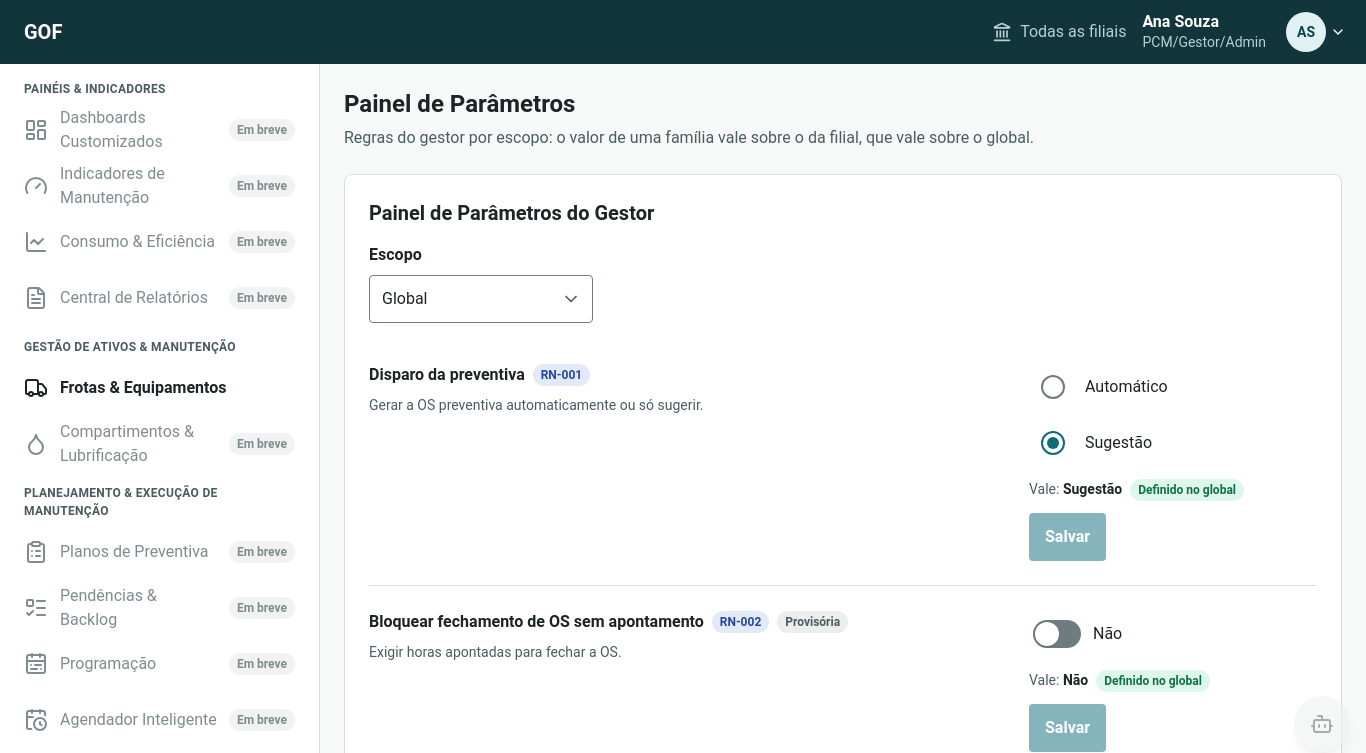
Test: Painel de Parâmetros (F1-28) › escopo Filial: chave sem escopo de filial fica indisponível; origem herdada ou definida aqui
Check: the heading "Painel de Parâmetros do Gestor" is shown, box [369,201,654,225]
Select "Filial" in the dropdown labelled "Escopo". click: (481, 299)
box: [369,275,593,323]
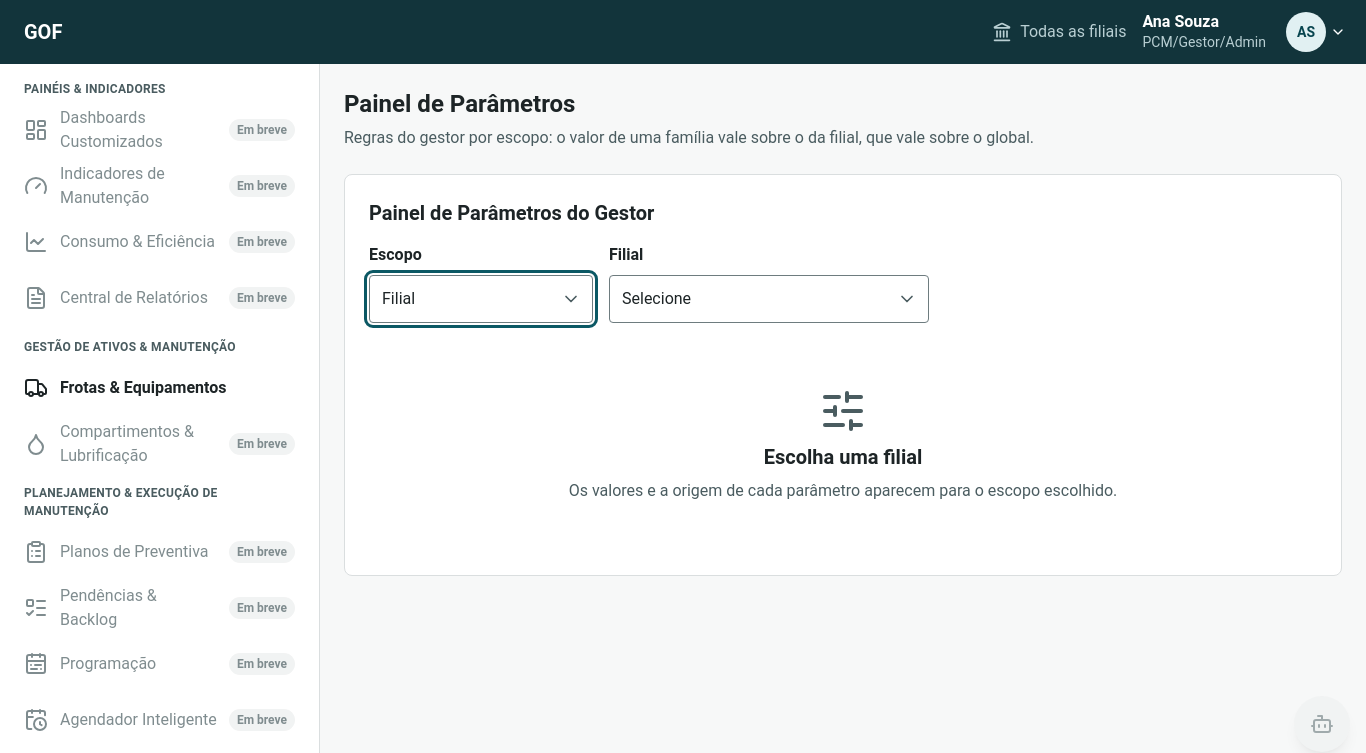
Check: the dropdown labelled "Filial" is enabled
Select "FIL-001 — Matriz" in the dropdown labelled "Filial". click: (769, 299)
box: [609,275,929,323]
(page scrolled)
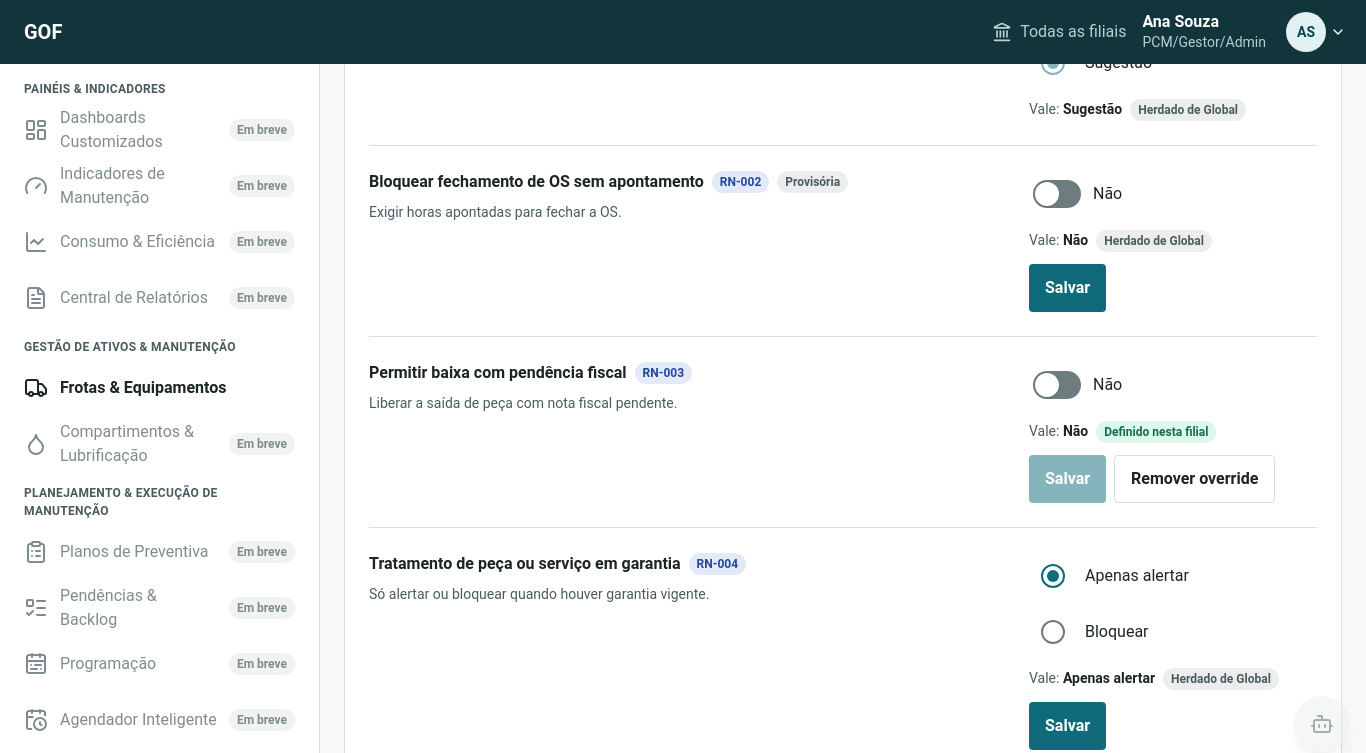
Check: the element "Permitir baixa com pendência fiscal" shows "Definido nesta filial", box [1104,425,1208,439]
Check: the element "Bloquear fechamento de OS sem apontamento" shows "Herdado de Global", box [1104,234,1204,248]
Check: the element "Tratamento de peça ou serviço em garantia" shows "Herdado de Global", box [1171,672,1271,686]
